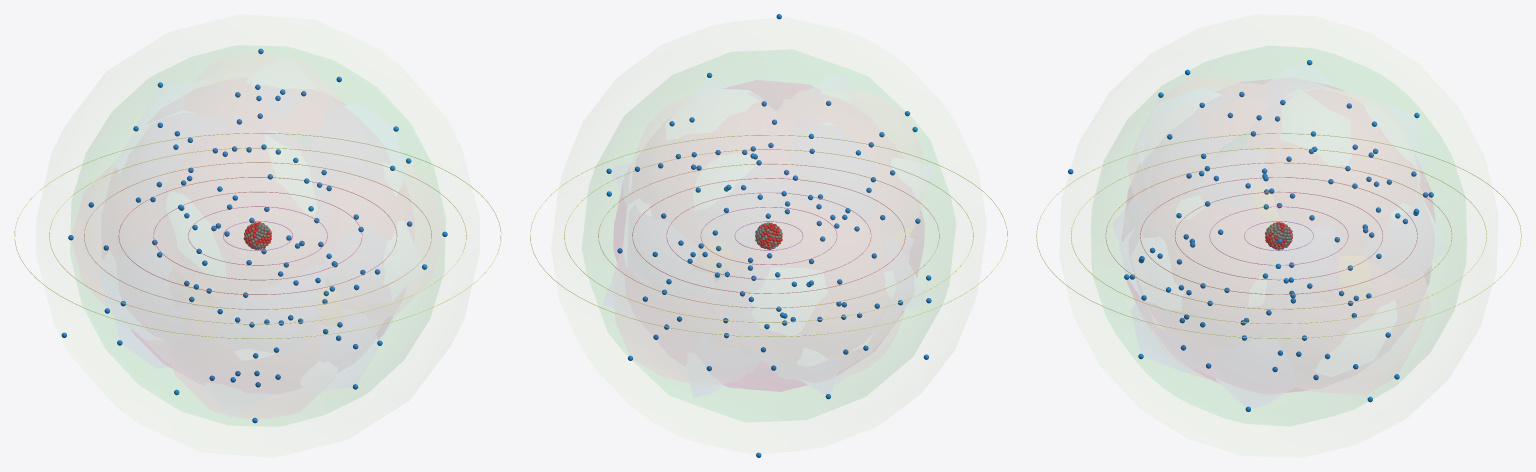
3 views of the same model, side by side, from view 1: azimuth 30°, elevation 25°; view 2: azimuth 150°, elevation 25°; view 3: azimuth 270°, elevation 25° (orthographic).
Parts seen in each view (by area): view 1: Nivel_n7, Nivel_n6, Nivel_n5, Nivel_n4, Nivel_n3; view 2: Orbital_5s_0, Nivel_n7, Nivel_n6, Nivel_n5, Nivel_n4, Nivel_n3; view 3: Nivel_n7, Nivel_n6, Nivel_n5, Nivel_n4, Orbital_5s_0, Nivel_n3.
Boxes of the visible parts, <box> form: Nivel_n7: <box>14,133,501,338</box>; Nivel_n6: <box>49,147,466,324</box>; Nivel_n5: <box>84,162,431,309</box>; Nivel_n4: <box>118,177,397,294</box>; Nivel_n3: <box>153,191,362,280</box>; Orbital_5s_0: <box>614,80,923,391</box>; Nivel_n7: <box>530,135,1007,336</box>; Nivel_n6: <box>564,149,973,322</box>; Nivel_n5: <box>598,163,939,308</box>; Nivel_n4: <box>632,178,905,293</box>; Nivel_n3: <box>666,192,871,279</box>; Nivel_n7: <box>1036,133,1521,338</box>; Nivel_n6: <box>1071,148,1486,323</box>; Nivel_n5: <box>1105,162,1452,309</box>; Nivel_n4: <box>1140,177,1417,294</box>; Orbital_5s_0: <box>1122,80,1434,391</box>; Nivel_n3: <box>1175,191,1382,280</box>.
Bounding box in the file's own units: 2.1 × 1.93 × 2.1.
